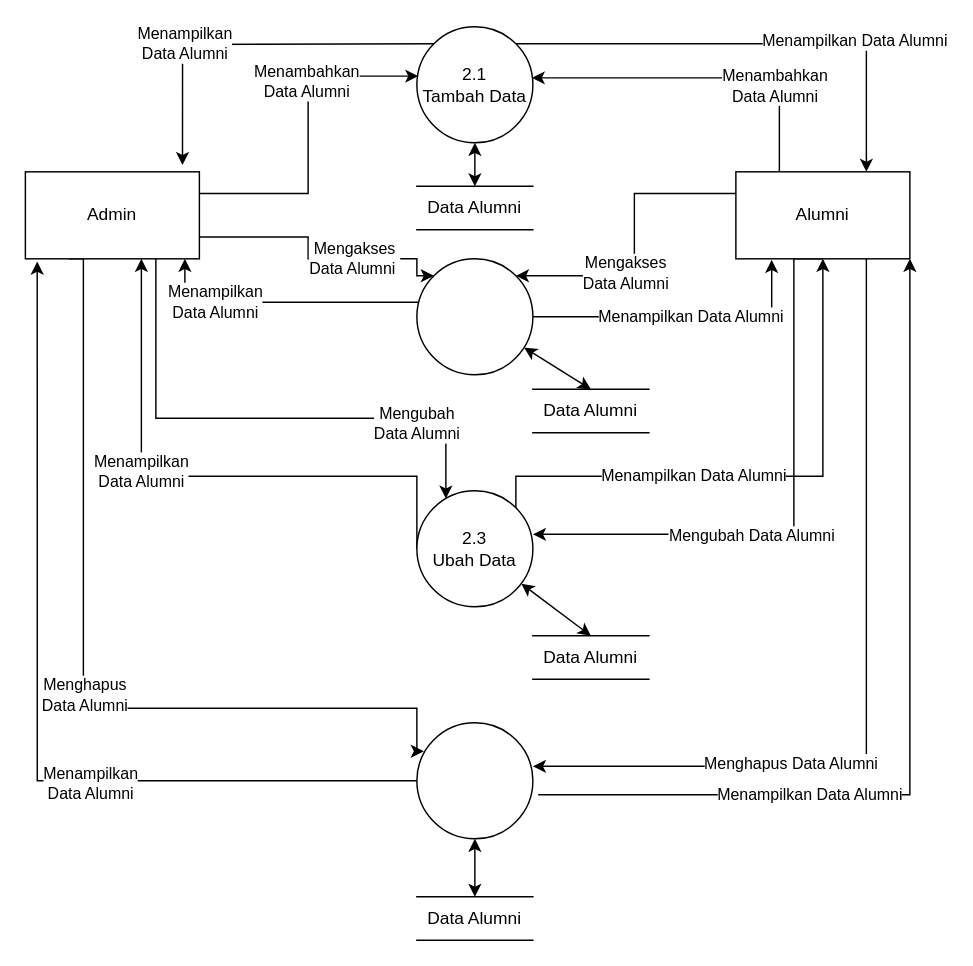
Image size: 973x966. Some labels were removed from this diagram. The box of each missing label's shape, as (x1, y1, x2, y2) in pixels:
2.2 Lihat Data: (415, 257, 533, 375)
2.4 Hapus Data: (415, 721, 533, 839)
